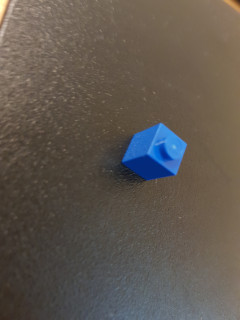1x1 blue: (120, 121, 189, 183)
